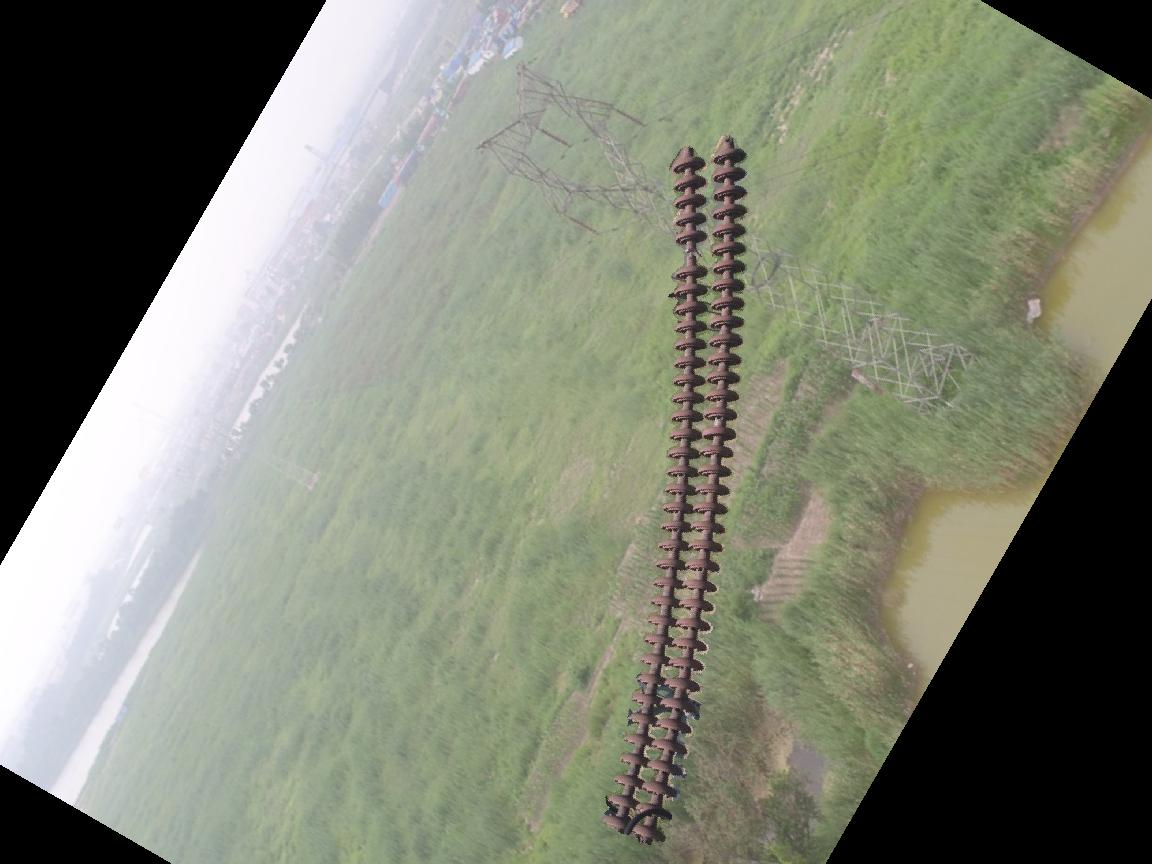insulator: (599, 135, 756, 849)
insulator_stringdrop: (668, 226, 711, 286)
